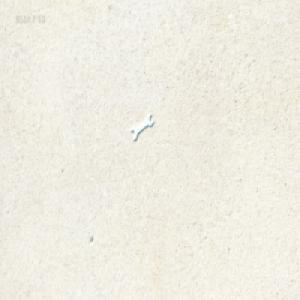Wrench: (131, 112, 154, 141)
